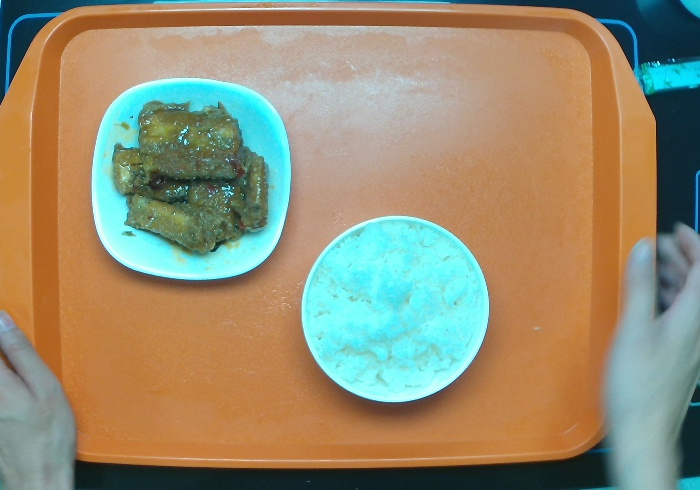ZNLD-Fan_Wan: (297, 213, 493, 407)
ZNLD-Si_Fang_Wan: (87, 75, 293, 284)
